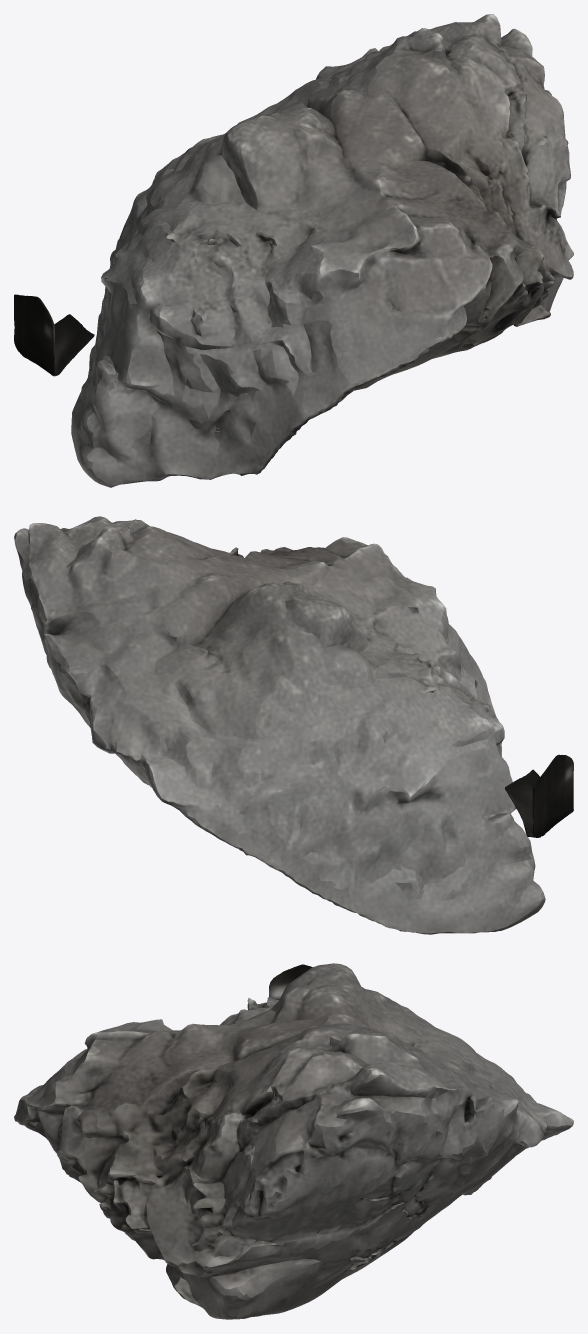
The picture shows the model from 3 angles, top to bottom: view 1: azimuth 30°, elevation 25°; view 2: azimuth 150°, elevation 25°; view 3: azimuth 270°, elevation 25°; orthographic projection. The views are drawn at different scales.
Parts seen in each view (by area): view 1: world; view 2: world; view 3: world.
Boxes of the visible parts, bbox=[...] form: world: bbox=[14, 14, 573, 487]; world: bbox=[14, 516, 573, 934]; world: bbox=[14, 963, 573, 1319].
Size of the model in its own units: 2.5 by 1.51 by 2.2.
1 material, 1 textured.
